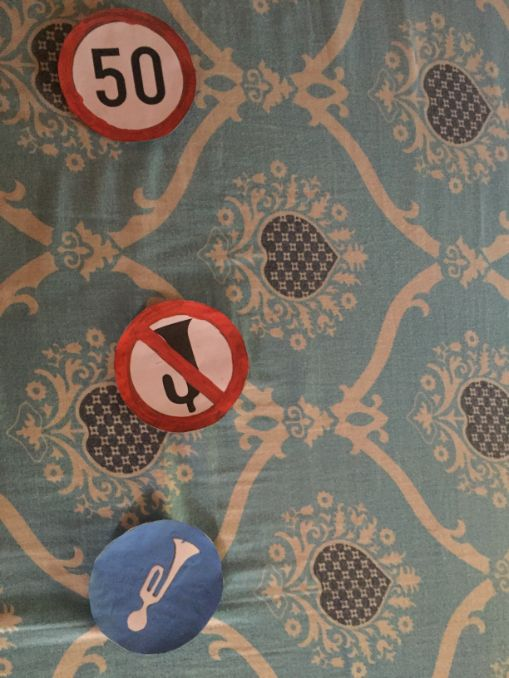blow-horn: (85, 518, 230, 660)
no-horn: (114, 287, 252, 433)
speed-50: (55, 5, 198, 146)
